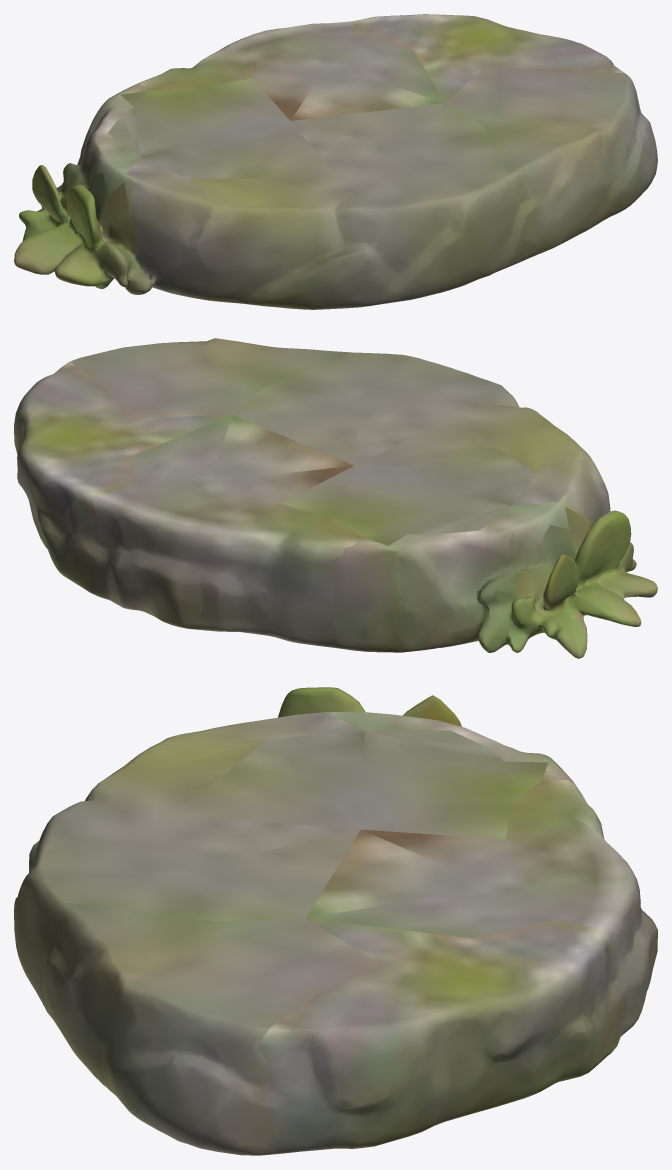
The model's file is cuenco_piedra.glb.
3 views of the same model, one above another, from view 1: azimuth 30°, elevation 25°; view 2: azimuth 150°, elevation 25°; view 3: azimuth 270°, elevation 25° (orthographic). The views are drawn at different scales.
Visible parts, largest first — view 1: cuenco_piedra_malla; view 2: cuenco_piedra_malla; view 3: cuenco_piedra_malla.
Part boxes in pixels (x1,y1,x2,y2): cuenco_piedra_malla: (14, 14, 657, 309); cuenco_piedra_malla: (14, 338, 657, 658); cuenco_piedra_malla: (14, 687, 657, 1155).
Size of the model in its own units: 0.1746 by 0.0291 by 0.1222.
Materials: 1 (1 with a texture image).
